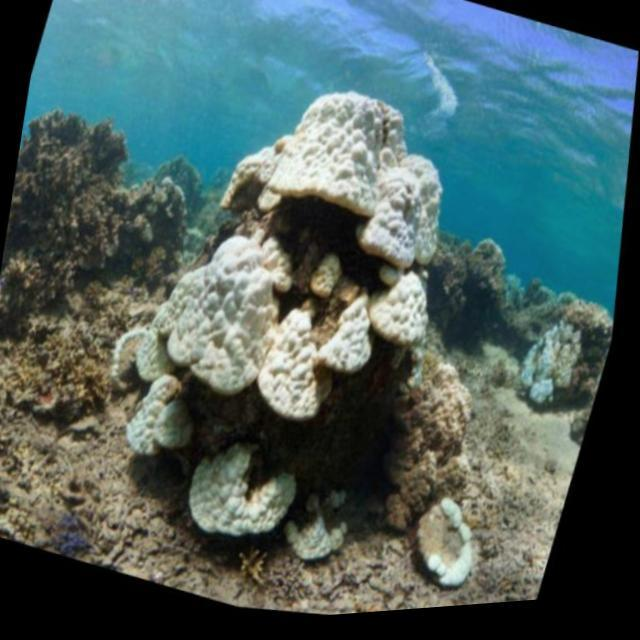Dead Coral: (0, 84, 197, 400)
